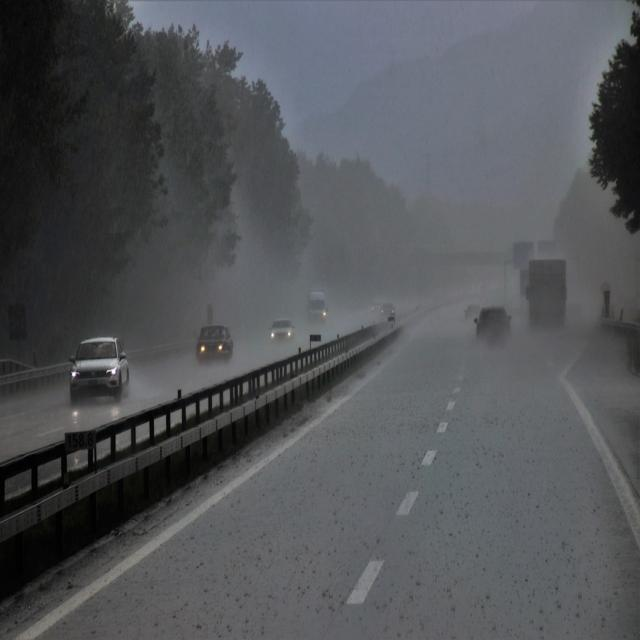car: (71, 335, 129, 398), (524, 257, 568, 336), (196, 324, 234, 363), (474, 305, 511, 341), (308, 293, 328, 326), (269, 320, 295, 344), (462, 303, 478, 326), (380, 302, 396, 316), (370, 300, 380, 316)
